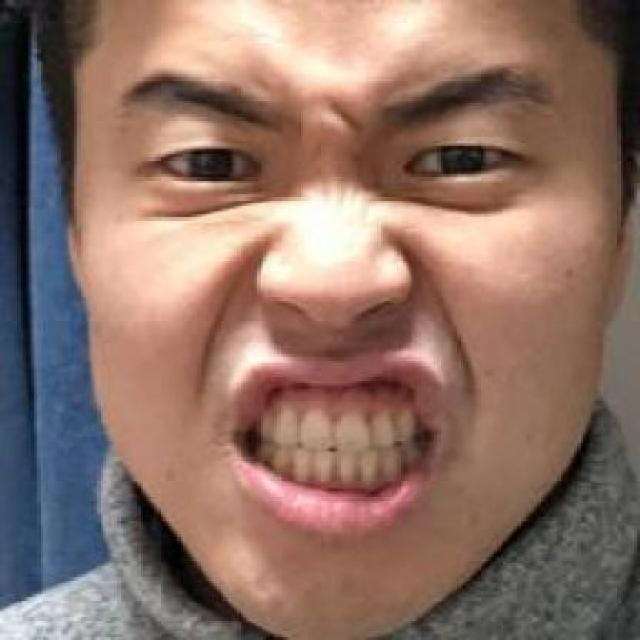angry: (70, 36, 588, 599)
